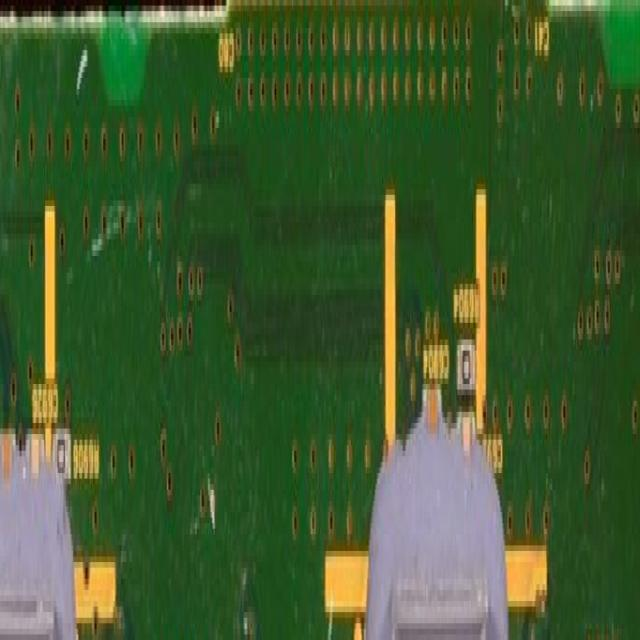capacitor: (22, 401, 48, 506), (418, 367, 446, 440)
resistor: (452, 295, 488, 401), (52, 406, 74, 506)
